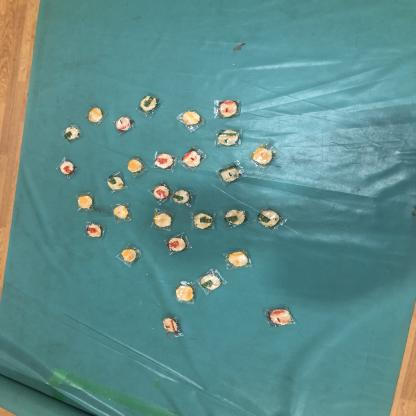green_setoshio: (253, 205, 287, 230), (197, 268, 228, 292), (216, 162, 244, 187), (134, 93, 162, 116), (223, 207, 250, 229), (189, 210, 215, 231), (217, 129, 243, 147), (104, 174, 128, 193), (171, 188, 194, 206), (59, 124, 83, 141)
red_setoshio: (214, 96, 244, 120), (266, 305, 297, 328), (164, 232, 191, 254), (80, 221, 108, 241), (152, 151, 178, 172), (159, 315, 185, 336), (182, 149, 207, 170), (110, 114, 136, 134), (56, 156, 78, 178), (149, 182, 172, 202)
yellow_setoshio: (220, 247, 257, 270), (175, 107, 208, 131), (116, 244, 145, 268), (250, 145, 280, 168), (121, 155, 149, 178), (150, 209, 176, 229), (173, 284, 199, 304), (83, 104, 106, 126), (73, 190, 96, 212), (110, 202, 132, 224)
